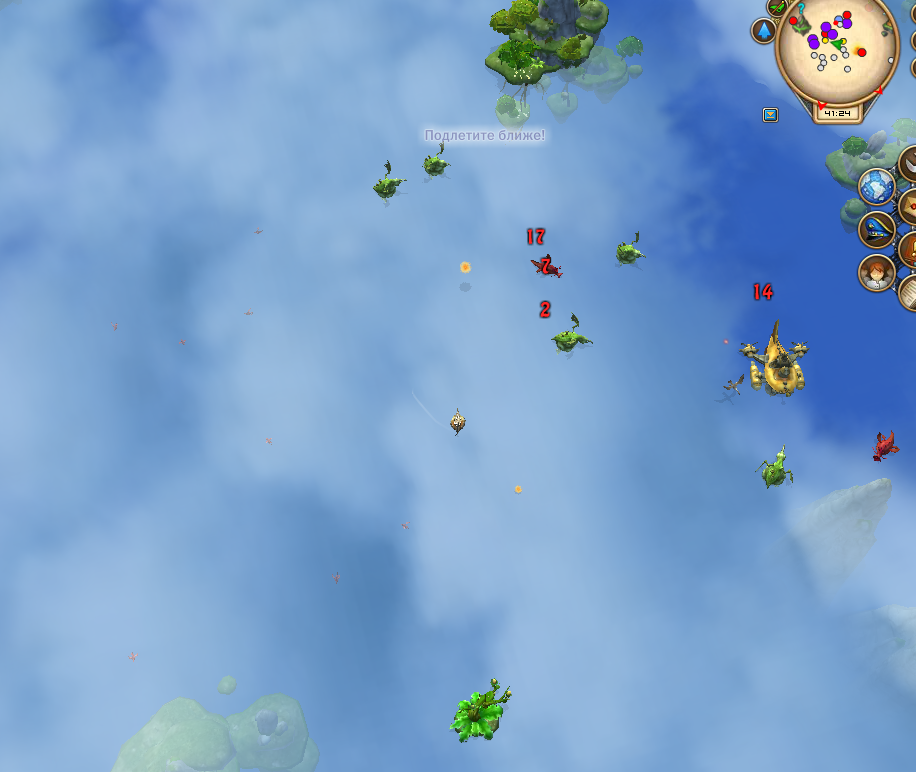dandelion-empty: (447, 672, 514, 747)
fluff: (454, 257, 476, 277), (511, 482, 525, 498)
